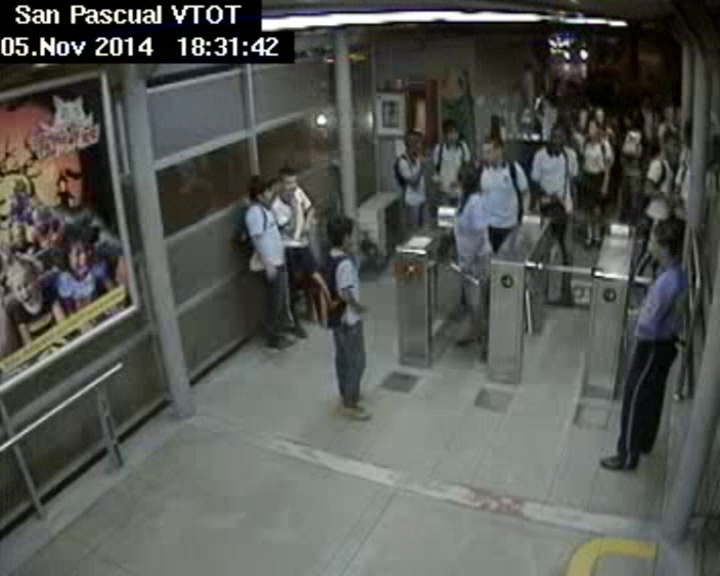person: (640, 216, 694, 267), (323, 211, 359, 251), (456, 159, 490, 193), (245, 174, 275, 211), (277, 165, 300, 202), (403, 129, 432, 158), (477, 138, 507, 164), (439, 118, 468, 143), (582, 118, 606, 141), (659, 129, 676, 159), (541, 128, 564, 149), (570, 106, 590, 126), (624, 111, 639, 130)
